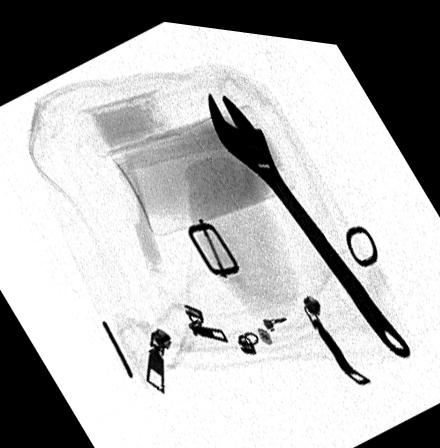Wrench: (204, 85, 409, 347)
